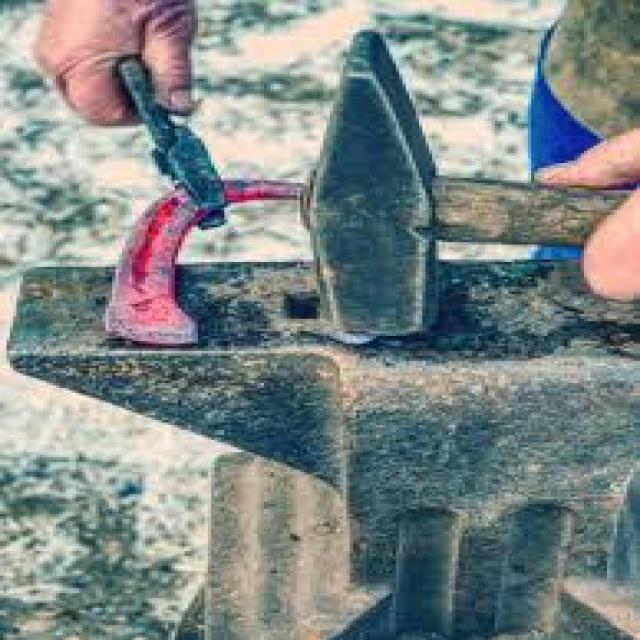hammer: (303, 12, 640, 368)
